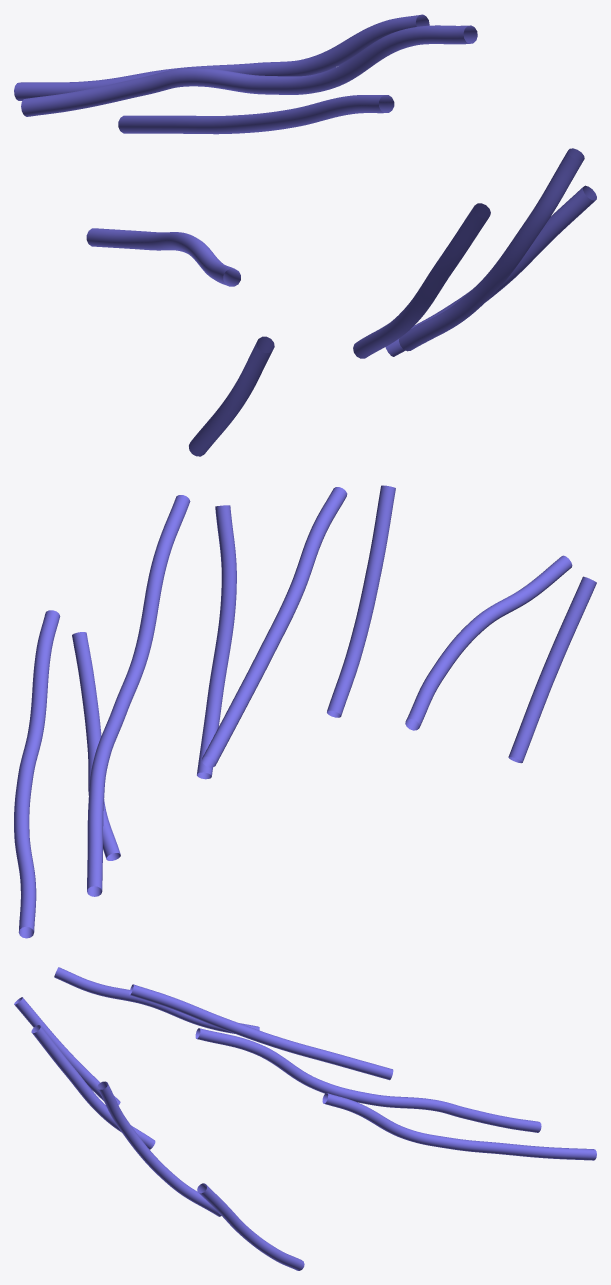
File: Intercapitular_veins_foot_left.glb
3 views of the same model, one above another, from view 1: azimuth 30°, elevation 25°; view 2: azimuth 150°, elevation 25°; view 3: azimuth 270°, elevation 25° (orthographic). The views are drawn at different scales.
Visible parts, largest first — view 1: Intercapitular_veins_of_foot.l_BezierCurve.368; view 2: Intercapitular_veins_of_foot.l_BezierCurve.368; view 3: Intercapitular_veins_of_foot.l_BezierCurve.368.
Boxes of the visible parts, left/top/right/bottom form: Intercapitular_veins_of_foot.l_BezierCurve.368: left=14, top=14, right=596, bottom=456; Intercapitular_veins_of_foot.l_BezierCurve.368: left=14, top=485, right=596, bottom=938; Intercapitular_veins_of_foot.l_BezierCurve.368: left=14, top=967, right=596, bottom=1270.
Size of the model in its own units: 0.0423 by 0.0324 by 0.0706.
